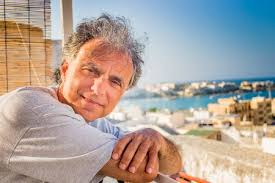white_male: (75, 30, 134, 121)
